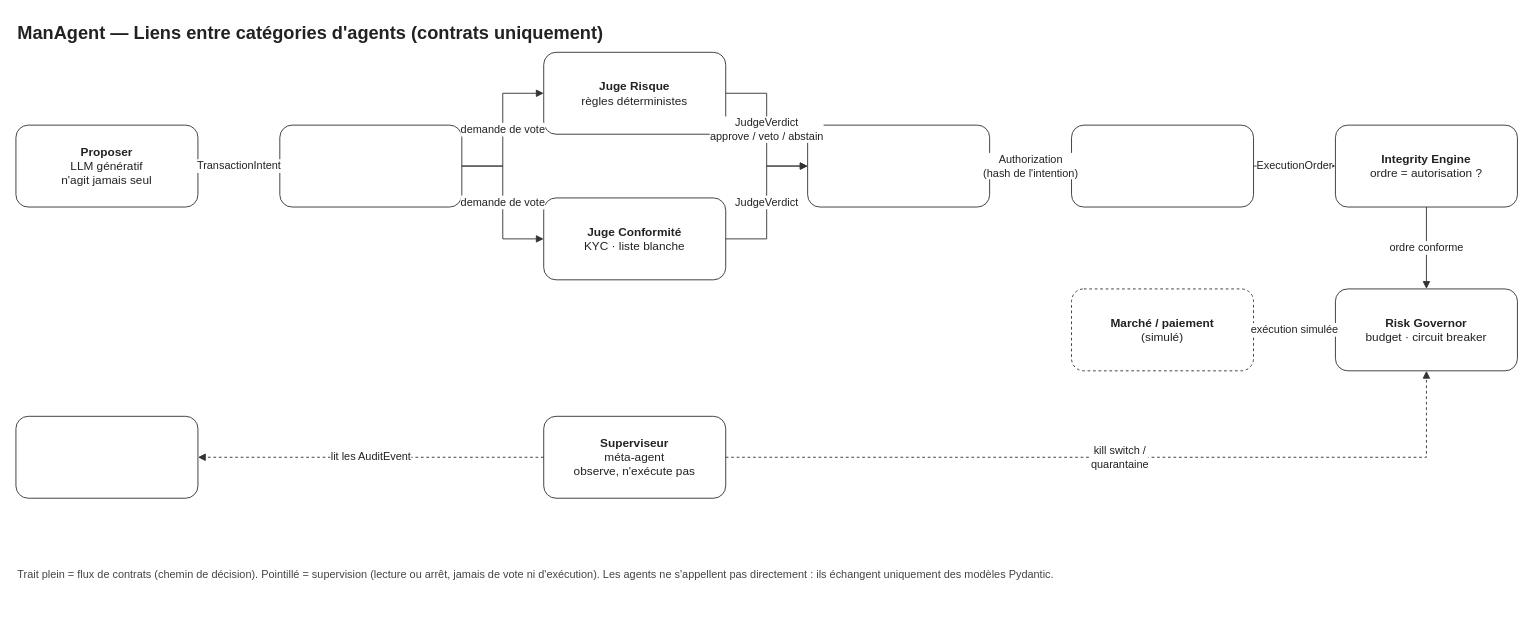
The diagram is 1533 pixels wide and 622 high, and some of its shapes have lost their labels. The shapes that lost their labels are listed below. From the top down, each one's centre as x and y in pixels, then its label:
point 370,165: Policy Engine déterministe ALLOW · ESCALATE · BLOCK
point 898,165: Quorum pondéré Risque ET Conformité poids = Trust Score
point 1162,165: Exécuteur tactique, ne décide pas
point 106,456: Journal d'audit AuditEvent chaîné
